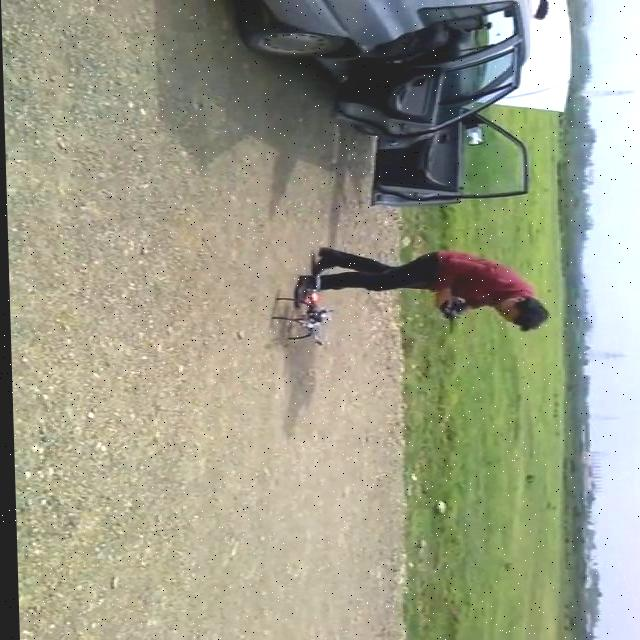drone: (271, 275, 337, 349)
